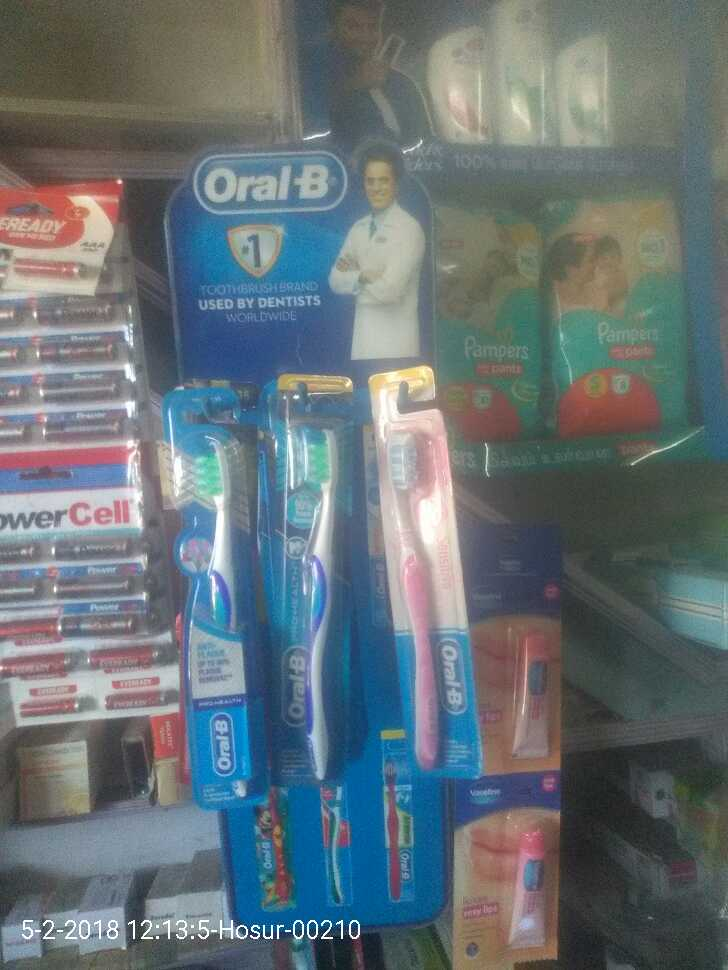beauty: (415, 12, 492, 140), (489, 4, 554, 139), (558, 21, 622, 141)
pharmacy: (546, 187, 692, 430), (171, 430, 258, 796), (382, 428, 467, 762), (435, 205, 546, 441), (270, 419, 336, 779)
